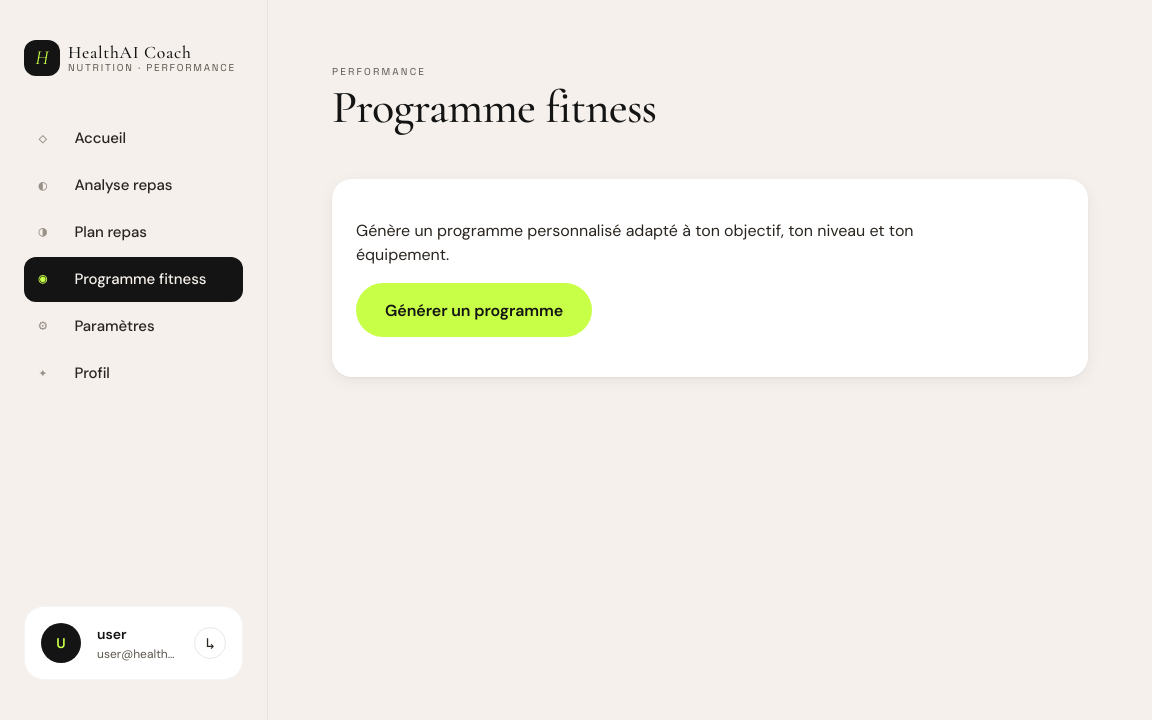
Fitness program generation › rend le programme avec ses exercices apres generation
Click the button with test id "generate-program-cta" at (474, 310), box [356,283,592,336]
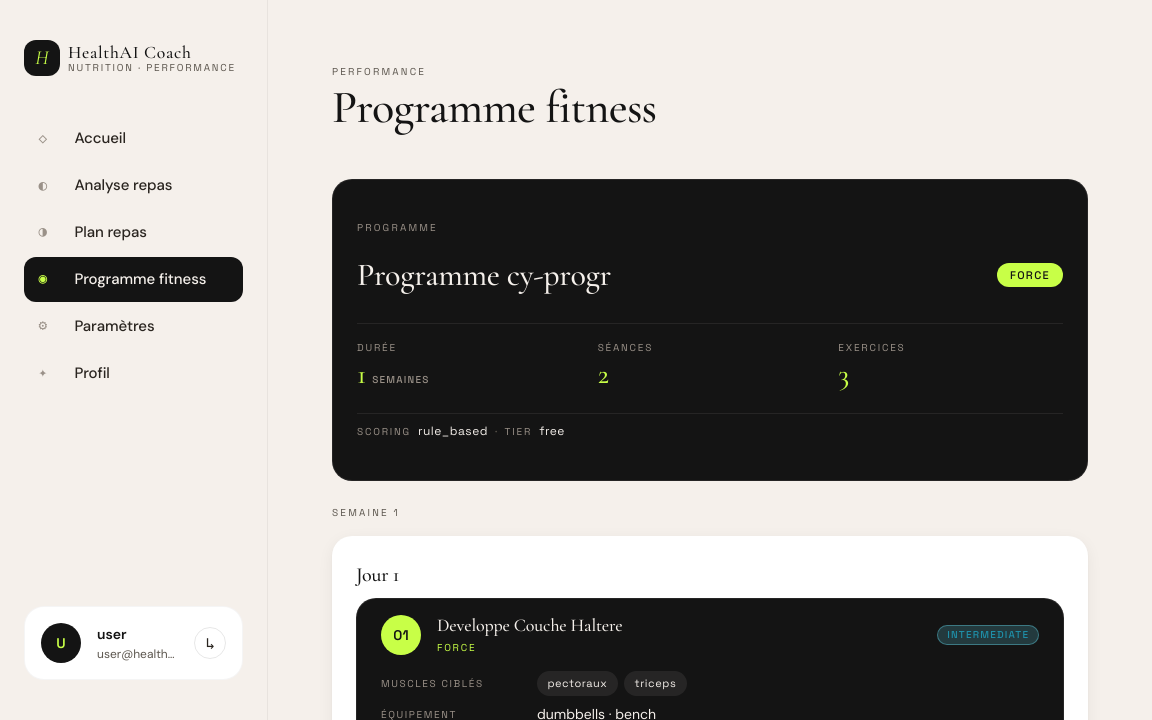
Now the element with test id "program-week-0" is shown, box [332,505,1088,719]
Now the heading "Jour 1" is shown, box [356,563,399,587]
Now the heading "Developpe Couche Haltere" is shown, box [437,614,622,636]
